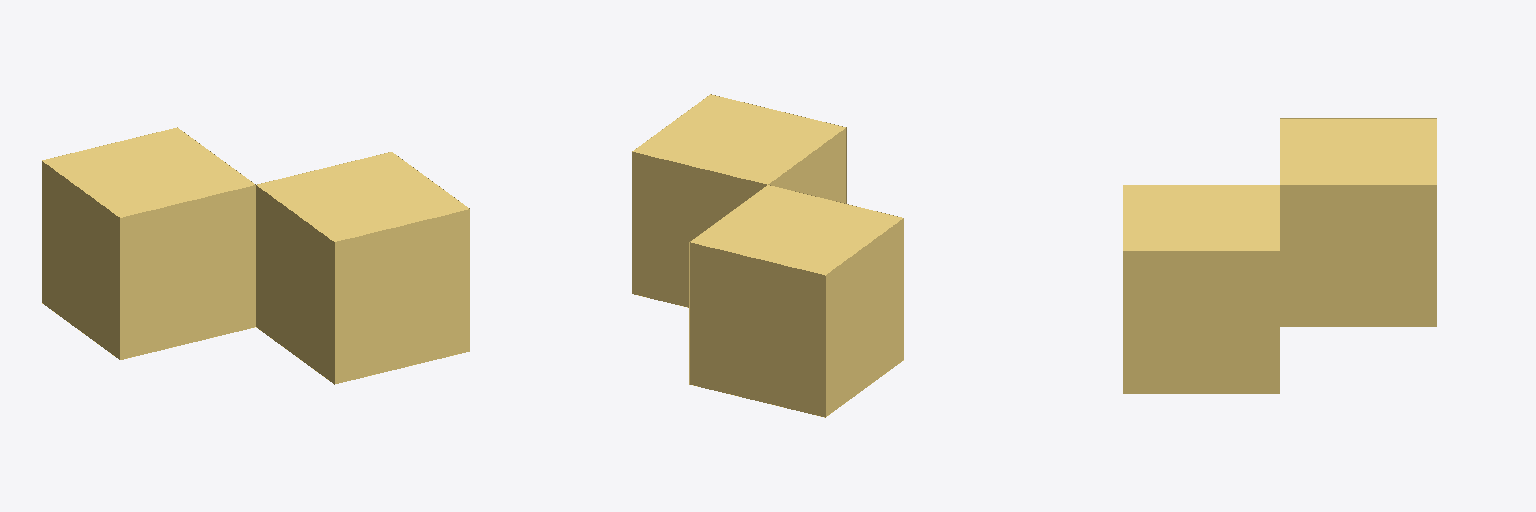
3 renders of one model, left to right at view 1: azimuth 30°, elevation 25°; view 2: azimuth 150°, elevation 25°; view 3: azimuth 270°, elevation 25°, orthographic.
Parts seen in each view (by area): view 1: AstromancerArm; view 2: AstromancerArm; view 3: AstromancerArm.
Part boxes in pixels (x1,y1,x2,y2): AstromancerArm: (42, 127, 469, 384); AstromancerArm: (632, 94, 903, 417); AstromancerArm: (1123, 118, 1436, 393).
Bounding box in the file's own units: 2 × 1 × 2.
Materials: 1 (1 with a texture image).